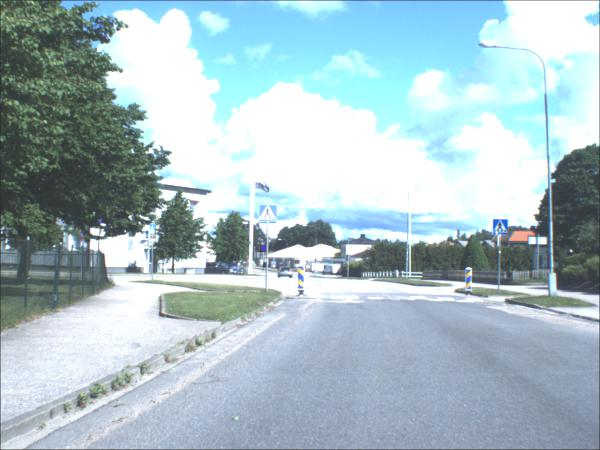NO_PARKING: (260, 246, 267, 254)
PEDESTRIAN_CROSSING: (259, 207, 277, 225), (493, 220, 509, 237), (150, 226, 156, 238), (146, 232, 149, 240)
